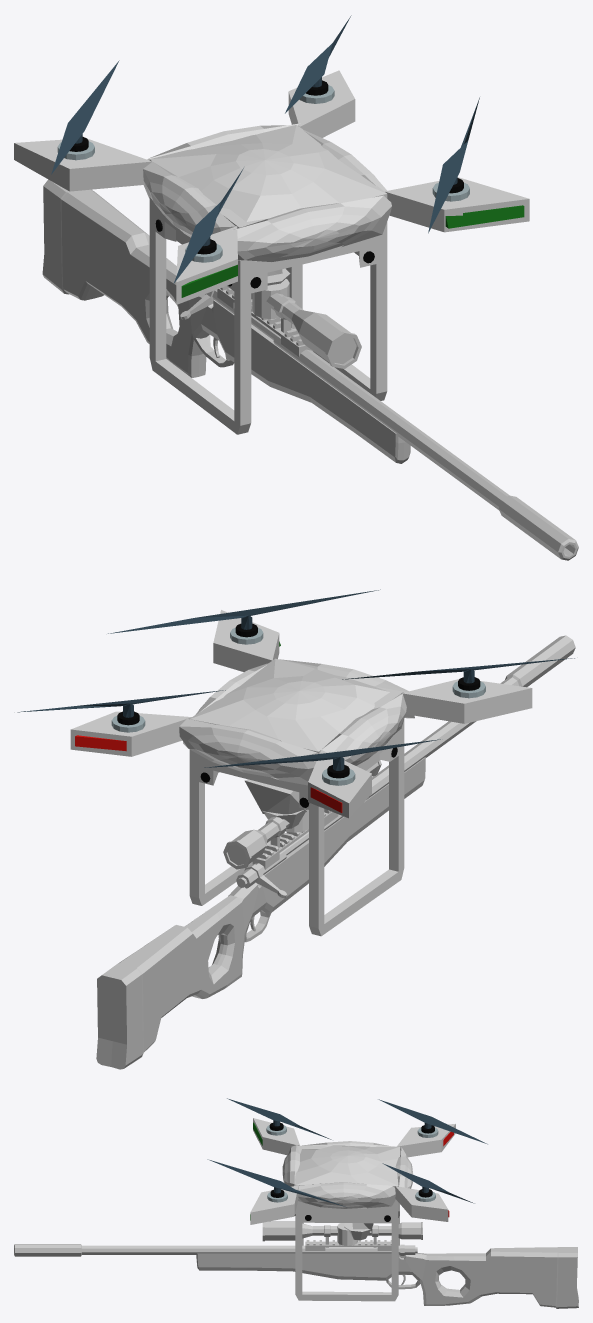
Rendered from DroneSniper.obj.
3 renders of one model, top to bottom at view 1: azimuth 30°, elevation 25°; view 2: azimuth 150°, elevation 25°; view 3: azimuth 270°, elevation 25°, orthographic. The views are drawn at different scales.
Parts seen in each view (by area): view 1: SniperRifle_3, group1802215358, group2114471358, group2109774117, group1635633909, group992375522, group1506967990, group1472813429, group1351310026, group562219596, group1947824049, group1345748236 (+10 smaller); view 2: SniperRifle_3, group1802215358, group1900742671, group1947824049, group1351310026, group992375522, group1635633909, group1434348068, group2109774117, group562219596, group1506967990, group1345748236 (+9 smaller); view 3: SniperRifle_3, group1802215358, group1451992339, group1351310026, group1635633909, group2109774117, group1719908566, group1947824049, group1013127126, group1726010505, group1472813429, group1434348068 (+8 smaller).
Boxes of the visible parts, left/top/right/bottom form: SniperRifle_3: left=42, top=179, right=578, bottom=560; group1802215358: left=150, top=125, right=386, bottom=221; group2114471358: left=233, top=195, right=391, bottom=261; group2109774117: left=14, top=138, right=152, bottom=191; group1635633909: left=384, top=177, right=529, bottom=232; group992375522: left=143, top=161, right=235, bottom=237; group1506967990: left=234, top=276, right=251, bottom=425; group1472813429: left=370, top=244, right=387, bottom=393; group1351310026: left=288, top=70, right=355, bottom=137; group562219596: left=149, top=210, right=166, bottom=361; group1947824049: left=176, top=226, right=237, bottom=304; group1345748236: left=149, top=357, right=250, bottom=434; SniperRifle_3: left=96, top=635, right=575, bottom=1069; group1802215358: left=190, top=658, right=389, bottom=751; group1900742671: left=179, top=718, right=318, bottom=785; group1947824049: left=401, top=679, right=532, bottom=723; group1351310026: left=70, top=711, right=191, bottom=756; group992375522: left=321, top=693, right=406, bottom=765; group1635633909: left=213, top=610, right=279, bottom=671; group1434348068: left=189, top=764, right=204, bottom=897; group2109774117: left=308, top=750, right=371, bottom=818; group562219596: left=309, top=804, right=324, bottom=928; group1506967990: left=389, top=737, right=404, bottom=871; group1345748236: left=309, top=868, right=404, bottom=936; SniperRifle_3: left=14, top=1221, right=578, bottom=1308; group1802215358: left=295, top=1145, right=400, bottom=1185; group1451992339: left=298, top=1182, right=395, bottom=1208; group1351310026: left=395, top=1186, right=448, bottom=1221; group1635633909: left=250, top=1185, right=298, bottom=1224; group2109774117: left=397, top=1123, right=455, bottom=1157; group1719908566: left=295, top=1291, right=398, bottom=1301; group1947824049: left=253, top=1118, right=299, bottom=1155; group1013127126: left=302, top=1213, right=384, bottom=1223; group1726010505: left=295, top=1201, right=398, bottom=1213; group1472813429: left=295, top=1213, right=302, bottom=1294; group1434348068: left=391, top=1214, right=398, bottom=1295.
Size of the model in its own units: 0.7759 by 0.499 by 1.64.
